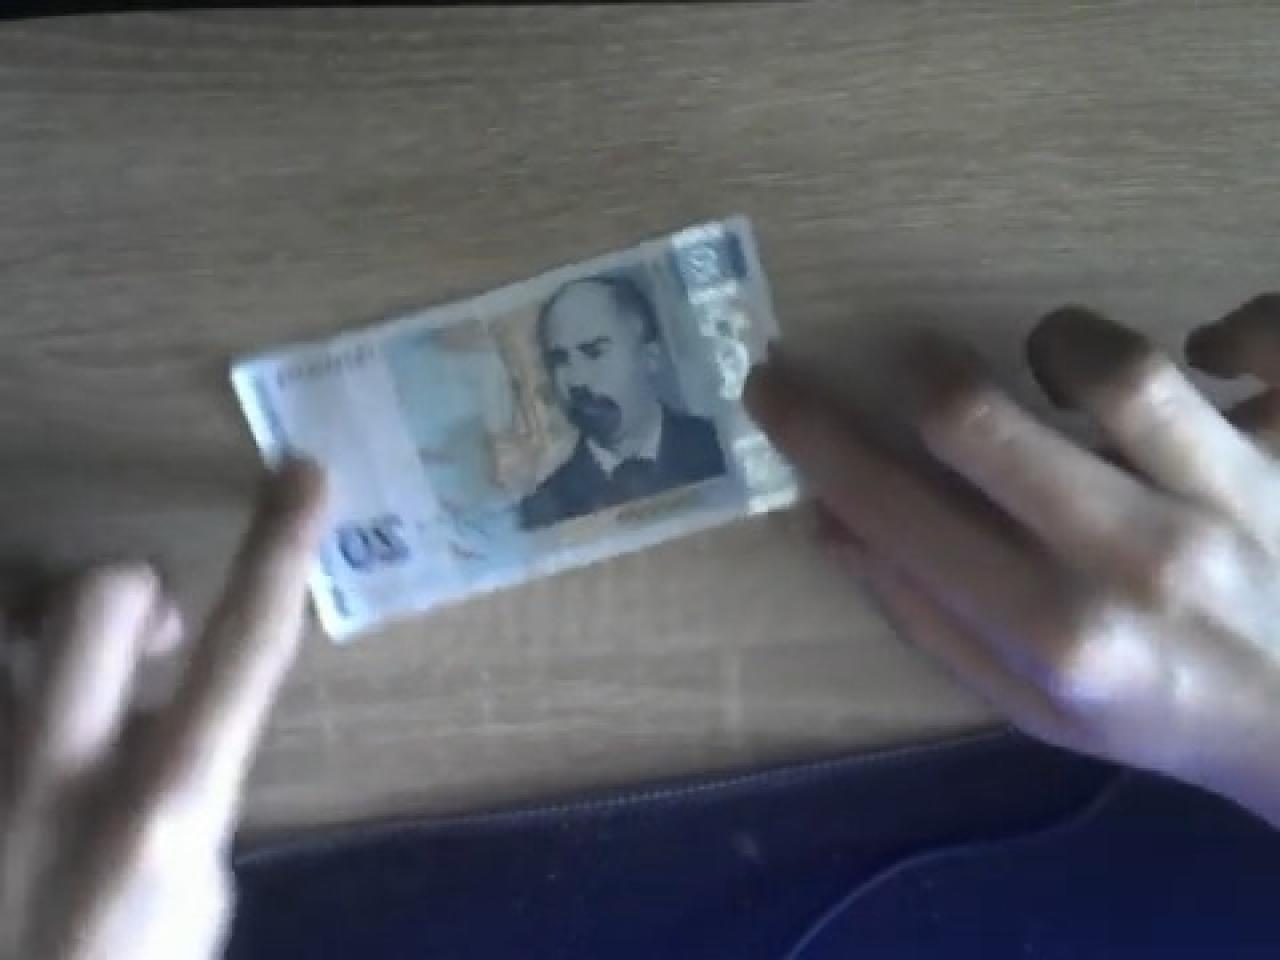20leva: (227, 214, 800, 642)
